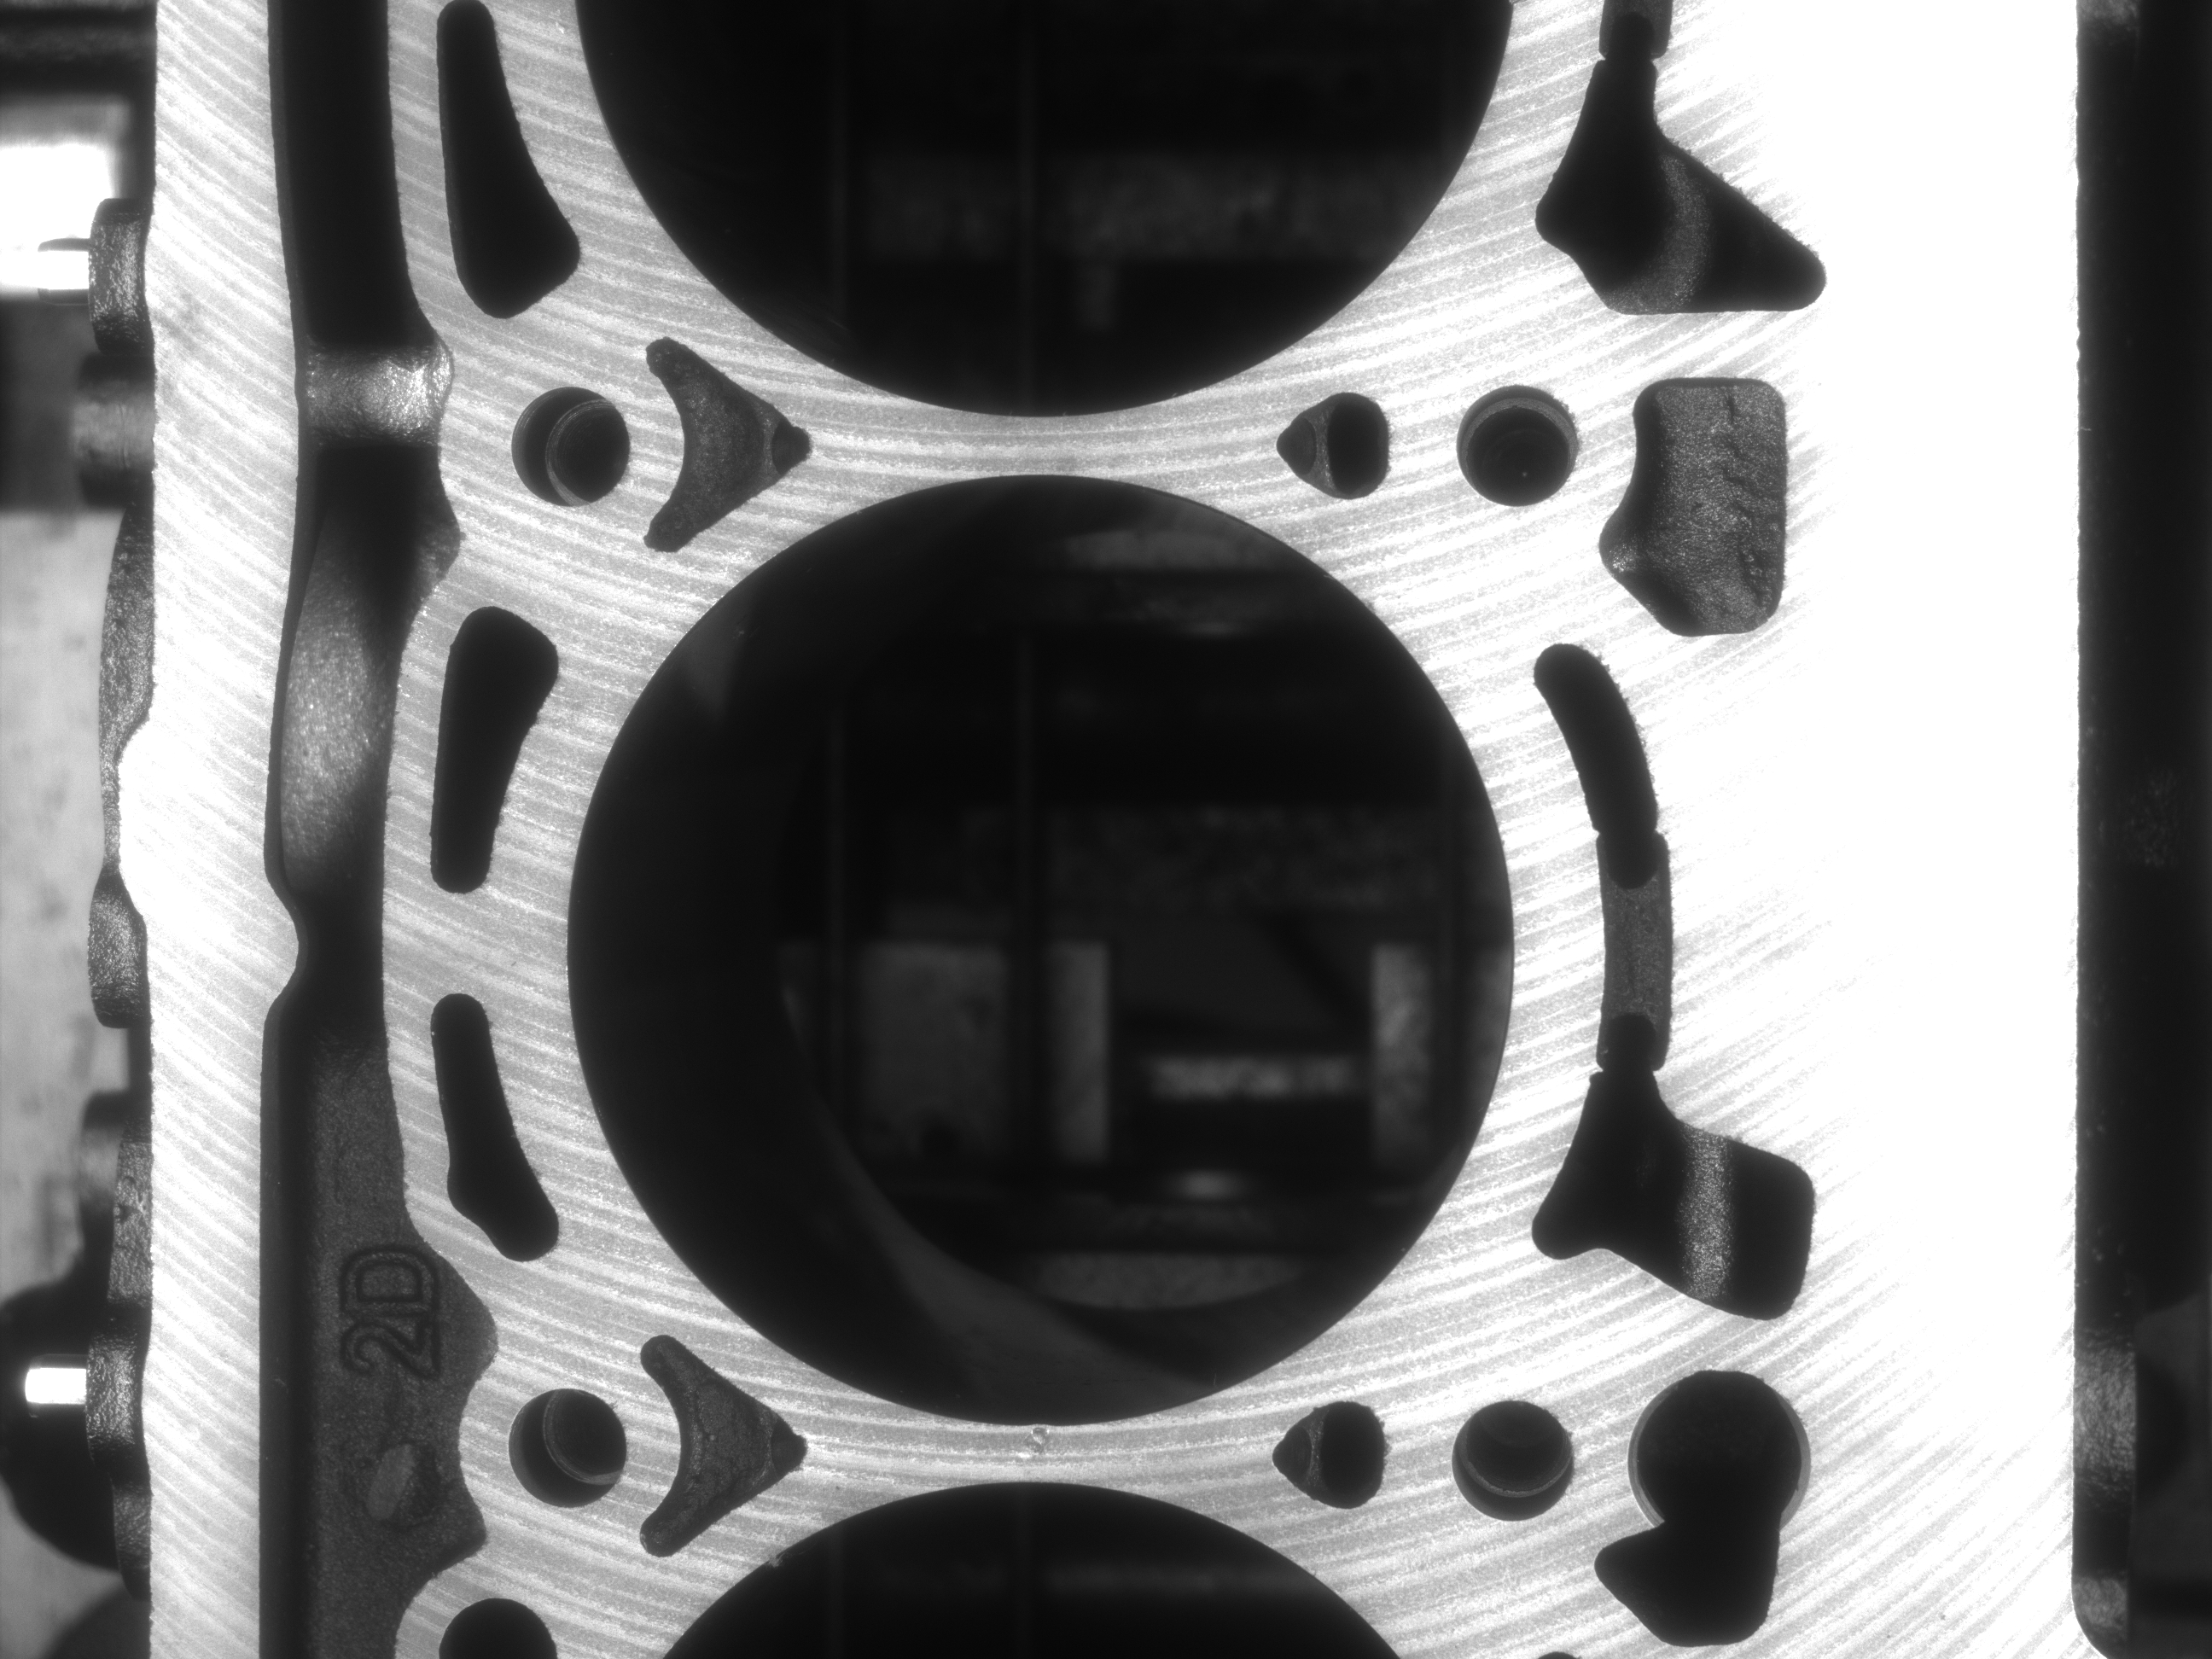shrinkage: (1021, 1422, 1057, 1453)
